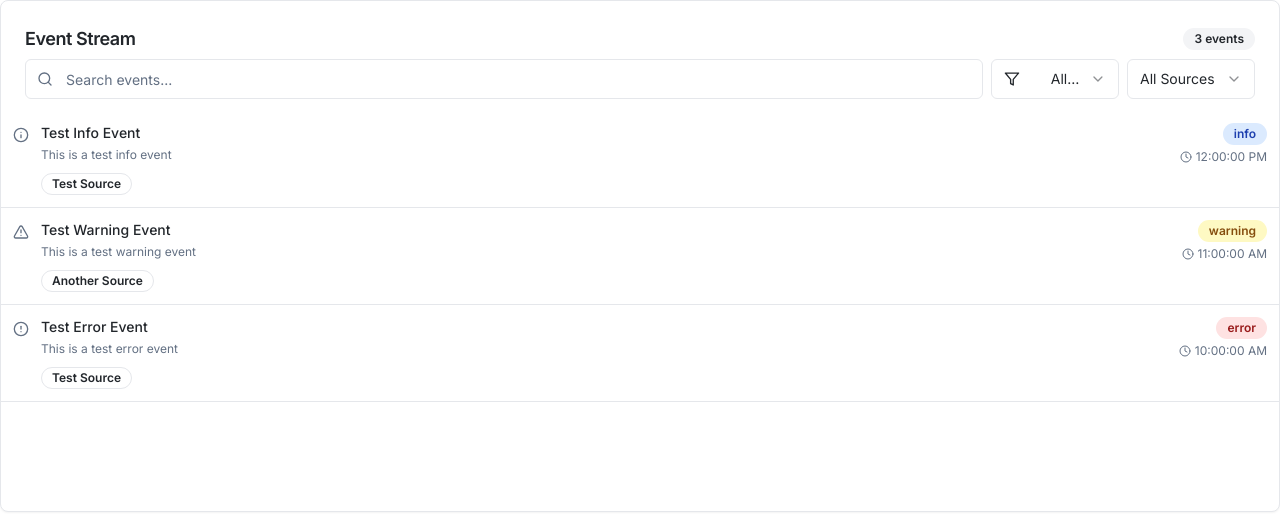
EventStream › filters events by search query
The image size is (1280, 529).
In the field with placeholder "Search events...": x=504, y=79 x1=25 y1=59 x2=983 y2=99, type "warning"
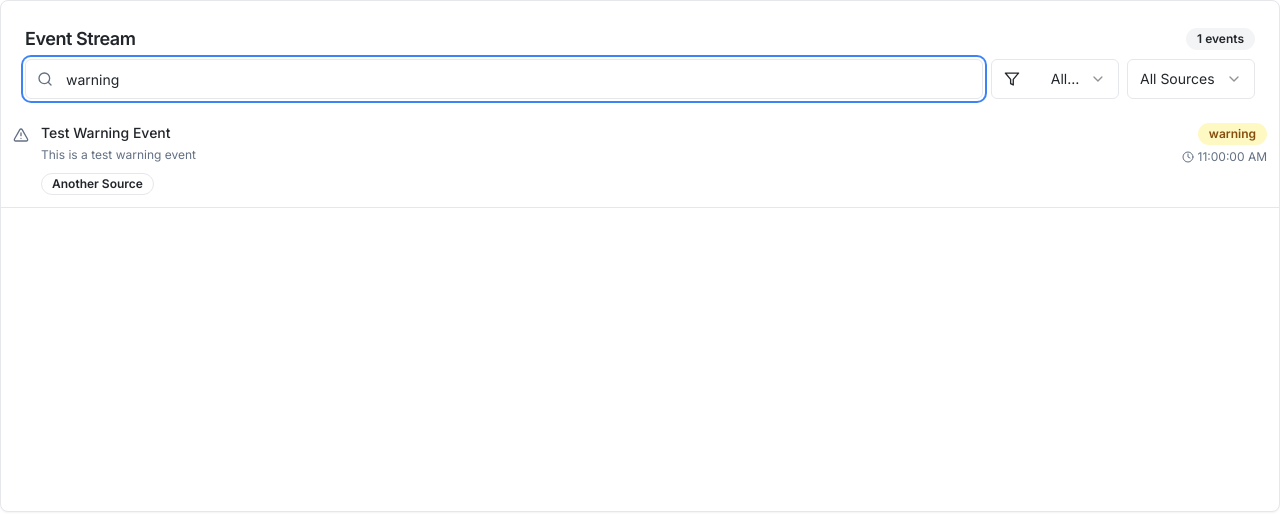
Expected: the heading "Test Warning Event" is shown, x1=41 y1=124 x2=171 y2=141
Result: the heading "Test Info Event" is gone
